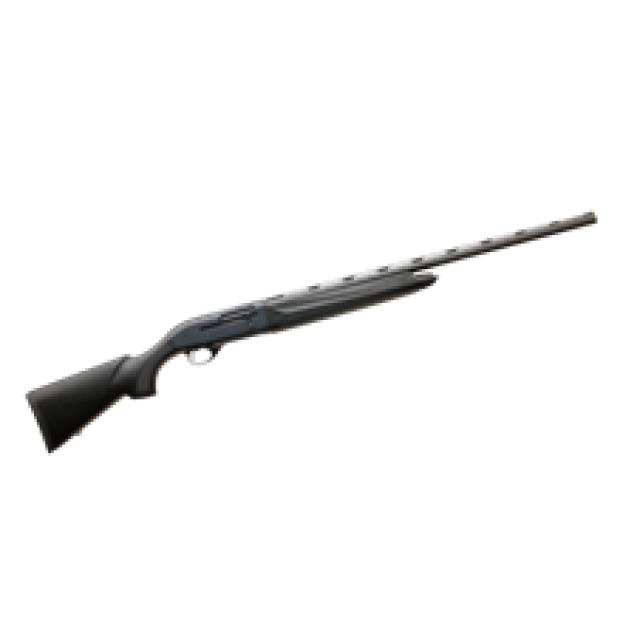rifle: (13, 197, 600, 470)
